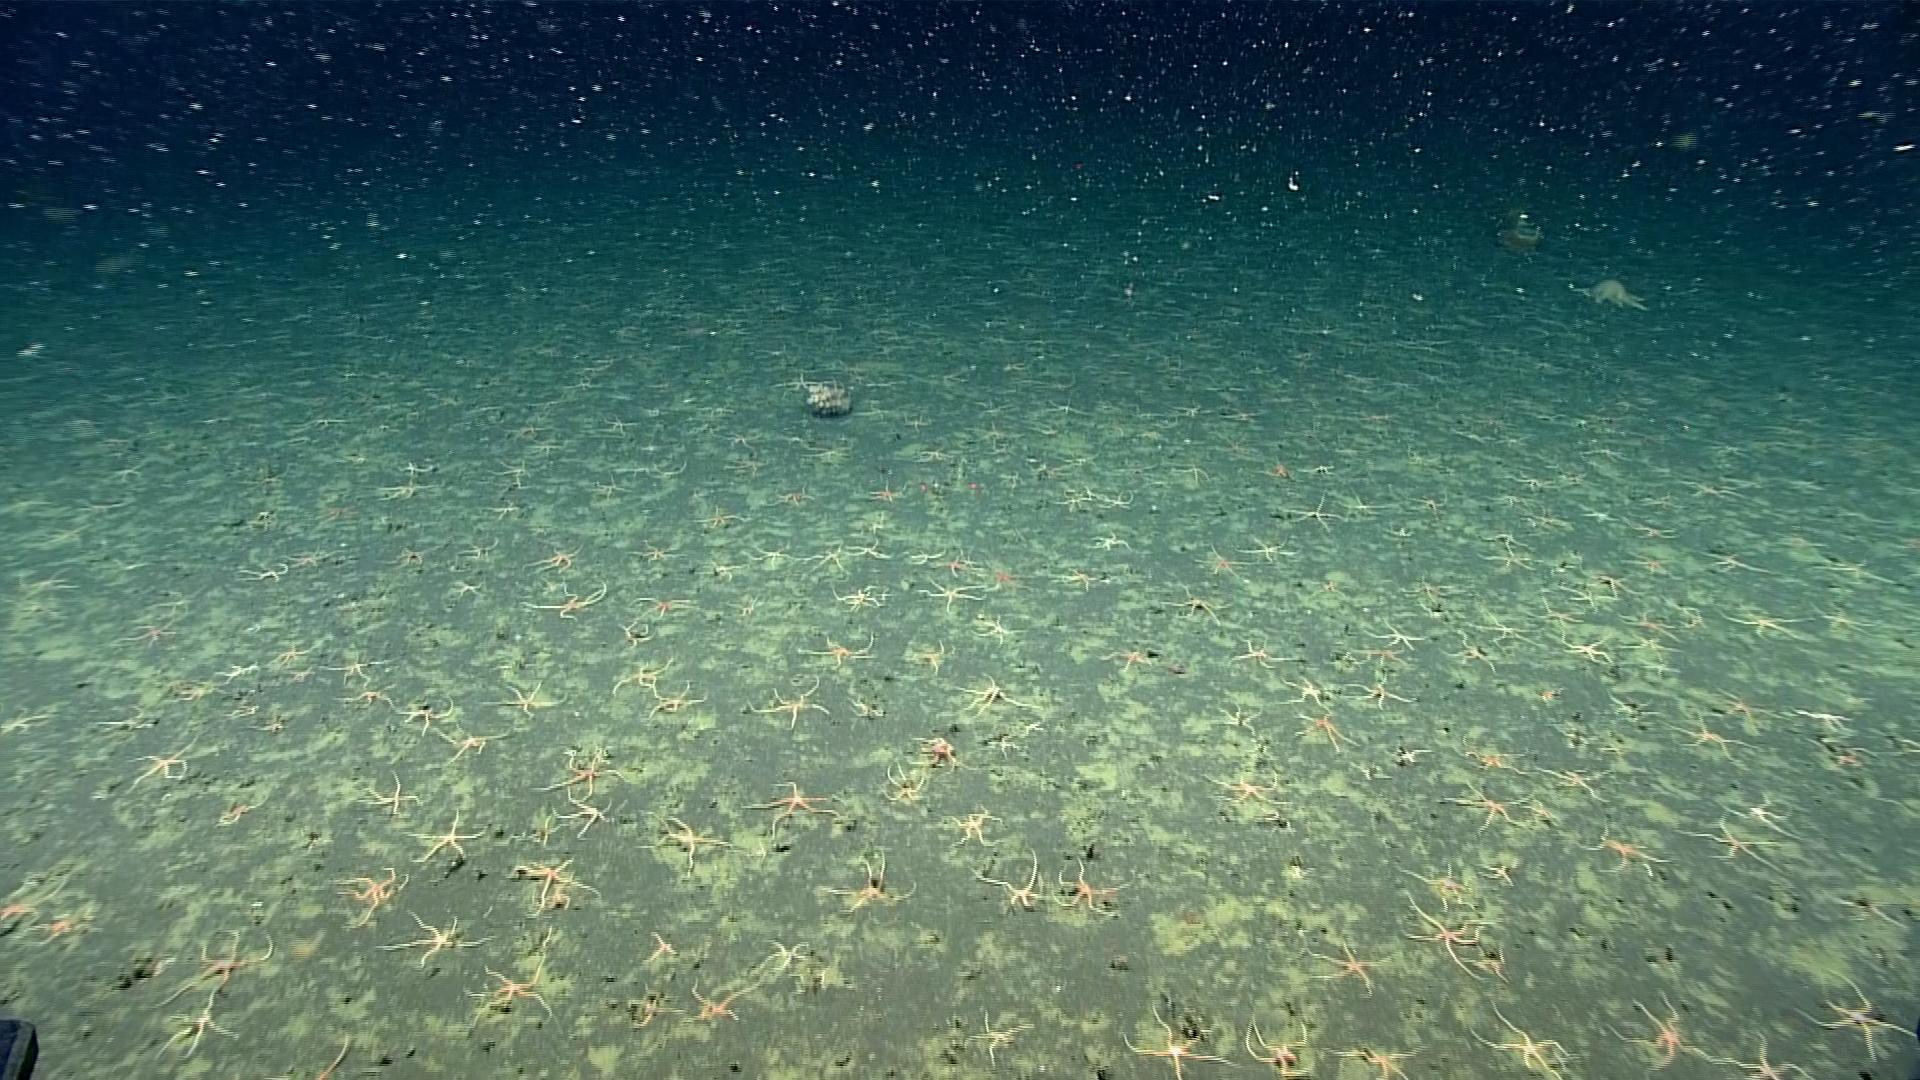brittle_sea_star: (1792, 969, 1919, 1059), (152, 923, 278, 1006), (1602, 990, 1724, 1071), (1125, 1001, 1236, 1079), (1472, 997, 1576, 1079), (372, 911, 495, 975), (815, 851, 919, 922), (1402, 891, 1481, 977), (460, 956, 556, 1026), (1676, 812, 1784, 873), (504, 858, 597, 920), (637, 816, 735, 874), (742, 775, 840, 833), (1577, 824, 1671, 882), (330, 868, 409, 934), (153, 996, 235, 1059), (1665, 711, 1755, 766), (969, 848, 1047, 911), (1398, 858, 1489, 913), (401, 815, 491, 868), (1242, 1010, 1313, 1076), (1448, 786, 1542, 836), (1722, 1027, 1813, 1079), (516, 575, 613, 622), (488, 666, 571, 721), (119, 738, 198, 796), (1050, 856, 1126, 915), (1307, 942, 1390, 996), (1328, 1033, 1424, 1079), (535, 745, 624, 795), (964, 1009, 1036, 1065), (1726, 787, 1801, 841), (753, 676, 833, 727), (0, 878, 69, 936), (1531, 760, 1614, 803), (434, 729, 516, 773), (1338, 671, 1419, 713), (550, 793, 617, 843), (1722, 605, 1813, 642), (1295, 707, 1364, 756), (948, 675, 1023, 719), (1455, 736, 1531, 778), (686, 982, 753, 1027), (918, 574, 1002, 609), (1472, 607, 1543, 649), (1204, 773, 1279, 812), (799, 634, 880, 671), (1818, 553, 1899, 589), (356, 771, 419, 818), (34, 906, 99, 951), (368, 459, 434, 502), (1224, 636, 1298, 674), (942, 803, 1001, 849), (1365, 613, 1435, 651), (1287, 492, 1350, 534), (644, 682, 711, 720), (612, 654, 676, 692), (1164, 588, 1229, 626), (1559, 629, 1622, 667), (1, 700, 69, 736), (394, 700, 456, 738), (1444, 630, 1498, 674), (318, 649, 384, 684), (628, 592, 704, 622), (757, 939, 819, 975), (121, 615, 181, 651), (1478, 539, 1539, 575), (1402, 571, 1460, 607), (212, 794, 268, 831), (334, 680, 398, 712), (524, 542, 585, 575), (1197, 542, 1251, 579), (880, 764, 928, 804), (629, 993, 682, 1030), (1697, 547, 1771, 574), (1534, 596, 1588, 632), (1274, 674, 1329, 708), (828, 587, 891, 616), (971, 615, 1023, 649), (914, 732, 963, 769), (1244, 537, 1300, 568), (264, 637, 314, 671), (1097, 647, 1159, 675), (626, 538, 684, 567), (1560, 580, 1618, 609), (1824, 607, 1882, 636), (1623, 551, 1684, 578), (211, 657, 265, 686), (803, 543, 849, 576), (905, 640, 947, 674), (235, 559, 289, 585), (491, 455, 535, 487), (171, 678, 222, 705), (616, 616, 655, 650), (692, 505, 746, 530), (1623, 633, 1677, 658), (749, 542, 795, 570), (384, 545, 431, 571), (644, 932, 680, 965), (847, 538, 893, 564), (462, 539, 509, 564), (584, 473, 632, 498), (1528, 512, 1580, 534), (1052, 568, 1101, 591), (1642, 657, 1685, 682), (315, 502, 367, 524), (940, 555, 981, 580), (1092, 530, 1133, 555), (450, 578, 489, 603), (775, 484, 815, 509), (866, 480, 905, 505), (1408, 495, 1448, 518), (1098, 489, 1137, 513), (282, 551, 327, 571), (1051, 489, 1091, 512), (1000, 468, 1027, 493), (906, 550, 942, 568)
